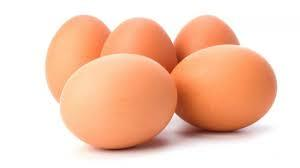egg: (58, 49, 178, 148), (171, 40, 281, 132), (42, 10, 109, 100), (104, 16, 176, 66), (174, 13, 244, 48)
